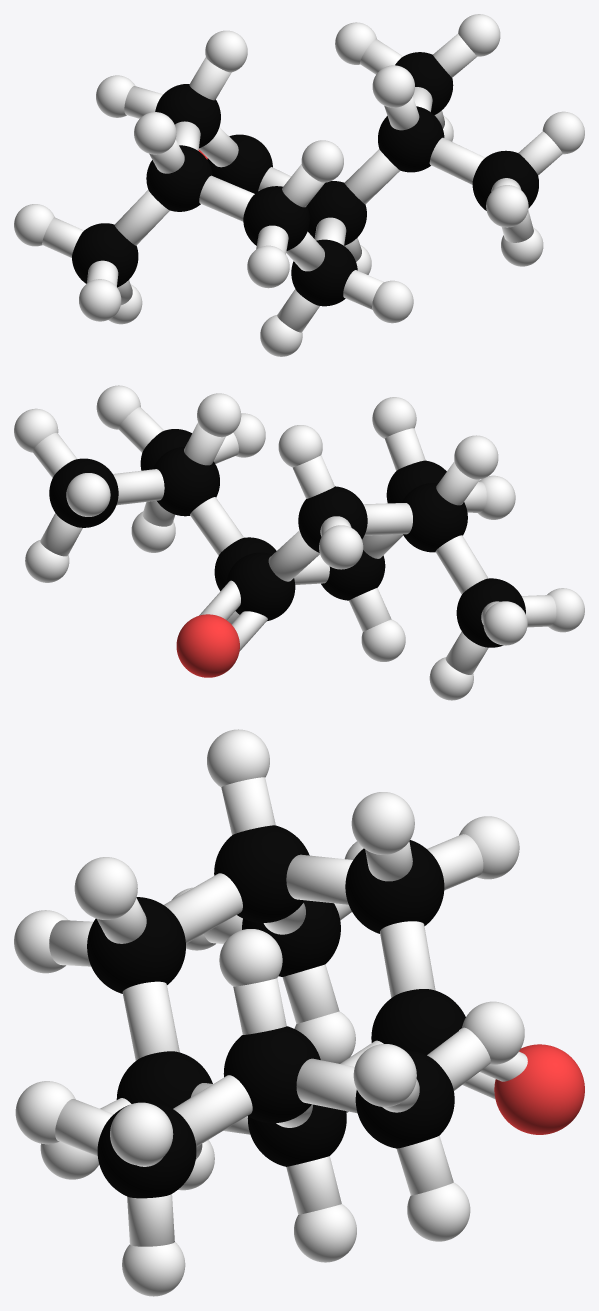
3 renders of one model, top to bottom at view 1: azimuth 30°, elevation 25°; view 2: azimuth 150°, elevation 25°; view 3: azimuth 270°, elevation 25°, orthographic. The views are drawn at different scales.
Visible parts, largest first — view 1: molecule; view 2: molecule; view 3: molecule.
Part boxes in pixels (x1=…): molecule: x1=14, y1=14, x2=584, y2=356; molecule: x1=14, y1=385, x2=584, y2=700; molecule: x1=14, y1=729, x2=584, y2=1296.
Bounding box in the file's own units: 7.93 × 4.21 × 5.42.
